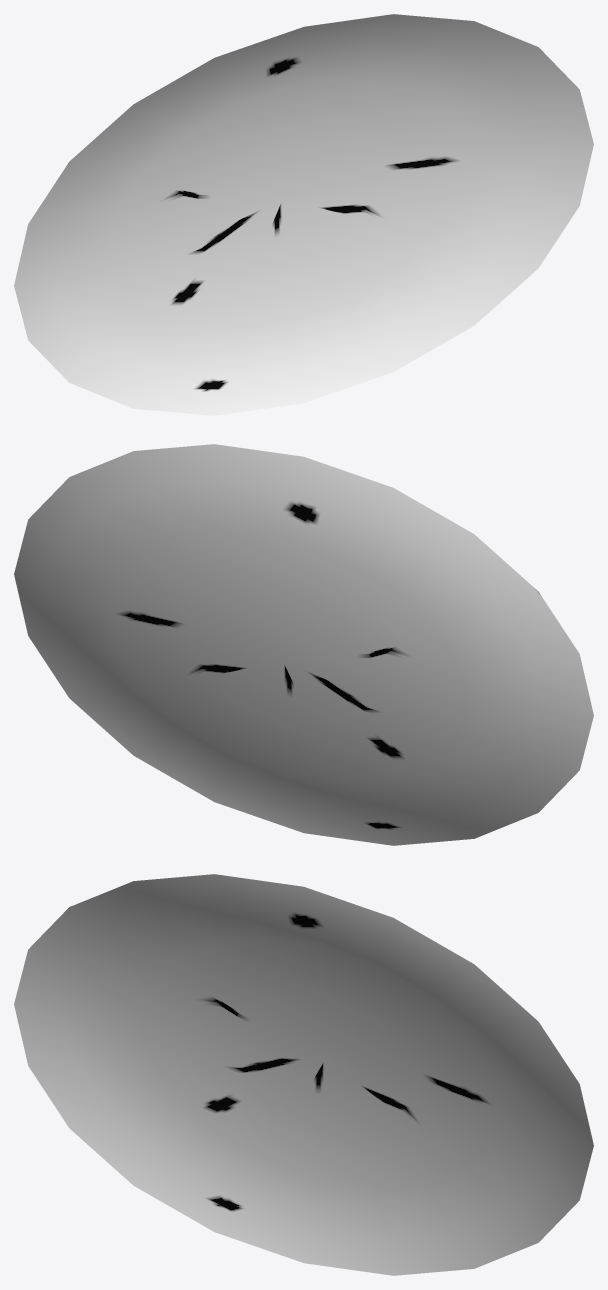
Rendered from chuansongmen1.FBX.
The picture shows the model from 3 angles, top to bottom: view 1: azimuth 30°, elevation 25°; view 2: azimuth 150°, elevation 25°; view 3: azimuth 330°, elevation 25°; orthographic projection.
Visible parts, largest first — view 1: chuansongmen1; view 2: chuansongmen1; view 3: chuansongmen1.
Part boxes in pixels (x1,y1,x2,y2): chuansongmen1: (14, 14, 593, 415); chuansongmen1: (14, 444, 593, 845); chuansongmen1: (14, 874, 593, 1275).
Bounding box in the file's own units: 16.17 × 1.03 × 10.03.
